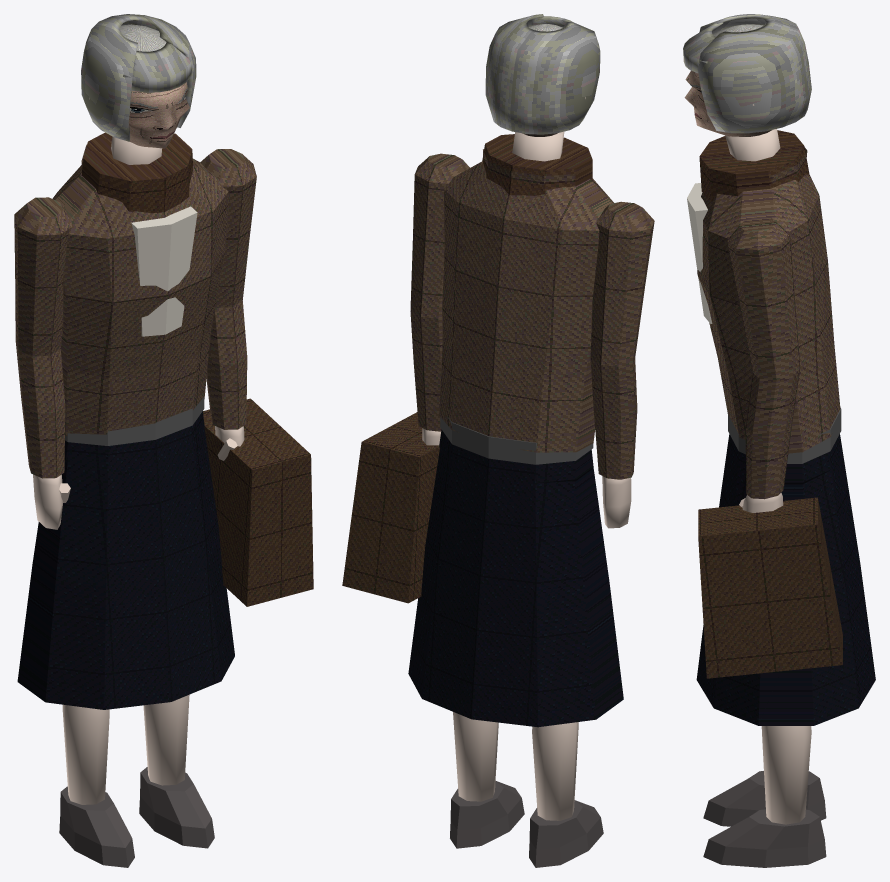
The model's file is char_anna.glb.
The picture shows the model from 3 angles, left to right: view 1: azimuth 30°, elevation 25°; view 2: azimuth 150°, elevation 25°; view 3: azimuth 270°, elevation 25°; orthographic projection.
Parts seen in each view (by area): view 1: Skirt, JacketTorso, ShoppingBag, ArmSleeve_L, ArmSleeve_R, HairElderCrown, Scarf, ShirtCollar, LegL_Pivot_Calf, LegL_Pivot_Boot, LegR_Pivot_Boot, OrganicHeadMesh (+5 smaller); view 2: Skirt, JacketTorso, ShoppingBag, ArmSleeve_L, HairElderCrown, ArmSleeve_R, LegL_Pivot_Calf, Scarf, LegR_Pivot_Calf, LegR_Pivot_Boot, LegL_Pivot_Boot, Belt (+4 smaller); view 3: ShoppingBag, JacketTorso, Skirt, ArmSleeve_R, HairElderCrown, LegR_Pivot_Boot, LegR_Pivot_Calf, Scarf, LegL_Pivot_Boot, OrganicHeadMesh, ShirtCollar, NeckOrganic (+4 smaller).
Boxes of the visible parts, x1=… form: Skirt: x1=17, y1=415, x2=234, y2=709; JacketTorso: x1=52, y1=158, x2=228, y2=436; ShoppingBag: x1=203, y1=398, x2=313, y2=606; ArmSleeve_L: x1=14, y1=197, x2=71, y2=478; ArmSleeve_R: x1=200, y1=149, x2=256, y2=429; HairElderCrown: x1=81, y1=14, x2=196, y2=141; Scarf: x1=81, y1=132, x2=193, y2=213; ShirtCollar: x1=131, y1=206, x2=197, y2=336; LegL_Pivot_Calf: x1=62, y1=704, x2=109, y2=804; LegL_Pivot_Boot: x1=59, y1=786, x2=134, y2=867; LegR_Pivot_Boot: x1=139, y1=767, x2=214, y2=848; OrganicHeadMesh: x1=120, y1=24, x2=189, y2=148; Skirt: x1=408, y1=449, x2=623, y2=727; JacketTorso: x1=439, y1=161, x2=613, y2=452; ShoppingBag: x1=342, y1=412, x2=439, y2=603; ArmSleeve_L: x1=590, y1=201, x2=654, y2=479; HairElderCrown: x1=485, y1=14, x2=600, y2=134; ArmSleeve_R: x1=410, y1=153, x2=469, y2=431; LegL_Pivot_Calf: x1=532, y1=722, x2=578, y2=820; Scarf: x1=482, y1=134, x2=592, y2=195; LegR_Pivot_Calf: x1=453, y1=712, x2=498, y2=801; LegR_Pivot_Boot: x1=450, y1=781, x2=524, y2=848; LegL_Pivot_Boot: x1=529, y1=800, x2=603, y2=867; Belt: x1=440, y1=417, x2=593, y2=464; ShoppingBag: x1=698, y1=497, x2=842, y2=678; JacketTorso: x1=697, y1=174, x2=840, y2=453; Skirt: x1=696, y1=434, x2=875, y2=725; ArmSleeve_R: x1=727, y1=217, x2=800, y2=499; HairElderCrown: x1=698, y1=14, x2=811, y2=133; LegR_Pivot_Boot: x1=703, y1=809, x2=826, y2=867; LegR_Pivot_Calf: x1=761, y1=726, x2=811, y2=824; Scarf: x1=699, y1=130, x2=809, y2=201; LegL_Pivot_Boot: x1=703, y1=771, x2=826, y2=826; OrganicHeadMesh: x1=684, y1=24, x2=771, y2=136; ShirtCollar: x1=687, y1=183, x2=712, y2=323; NeckOrganic: x1=725, y1=129, x2=780, y2=161.
Bounding box in the file's own units: 0.5664 × 1.64 × 0.3523.
10 materials, 6 textured.
